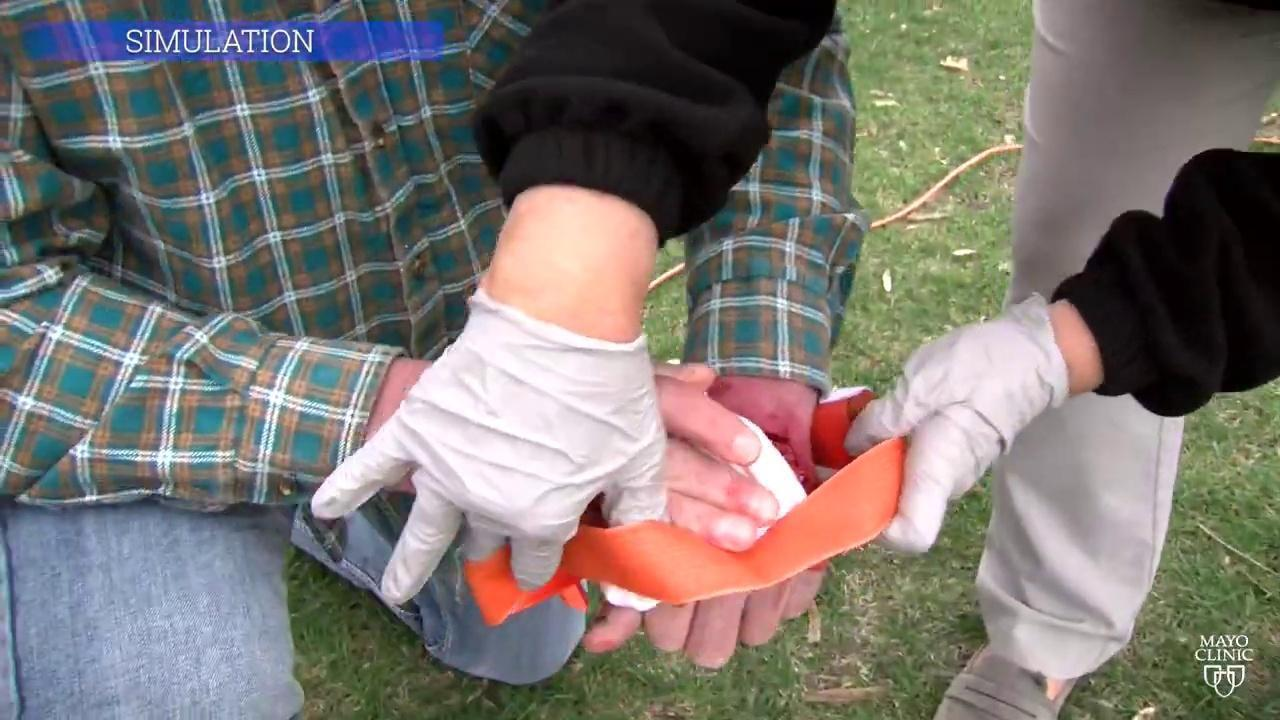Fire: (700, 373, 819, 492)
